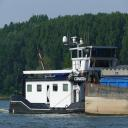tugboat: (8, 37, 117, 119)
